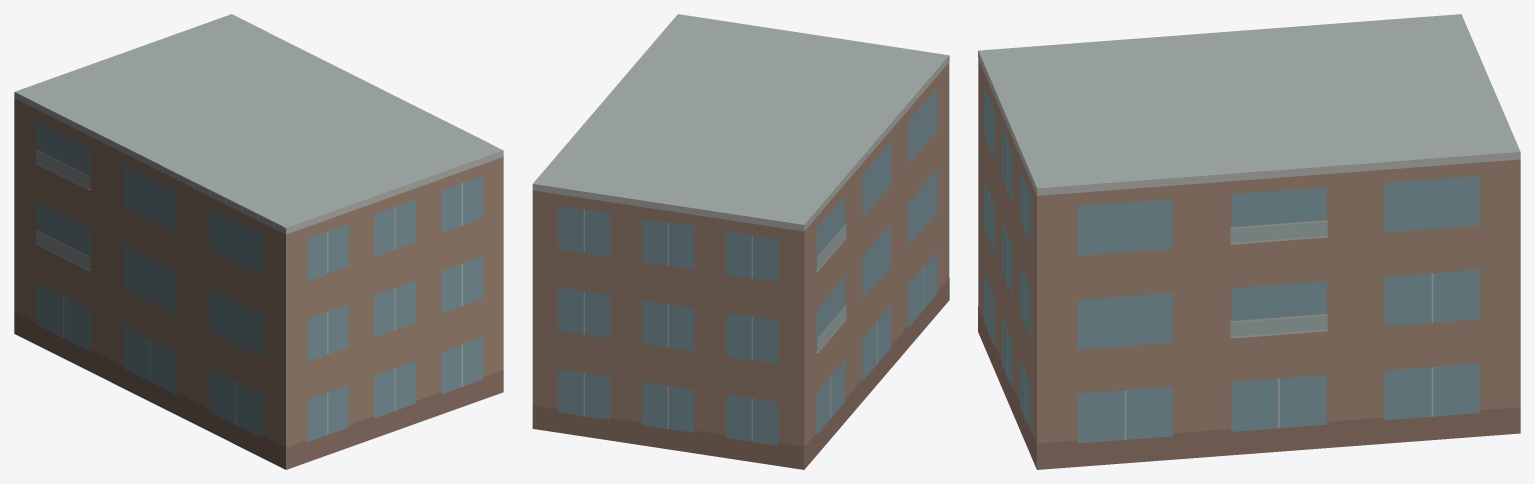
Rendered from survey-upis-32977200.glb.
3 renders of one model, left to right at view 1: azimuth 30°, elevation 25°; view 2: azimuth 150°, elevation 25°; view 3: azimuth 270°, elevation 25°, orthographic. The views are drawn at different scales.
Visible parts, largest first — view 1: survey-upis-32977200.tmp; view 2: survey-upis-32977200.tmp; view 3: survey-upis-32977200.tmp.
Boxes of the visible parts, bbox=[...] form: survey-upis-32977200.tmp: bbox=[14, 14, 503, 469]; survey-upis-32977200.tmp: bbox=[532, 14, 949, 469]; survey-upis-32977200.tmp: bbox=[978, 14, 1520, 469].
Bounding box in the file's own units: 12.17 × 9.15 × 15.99.
